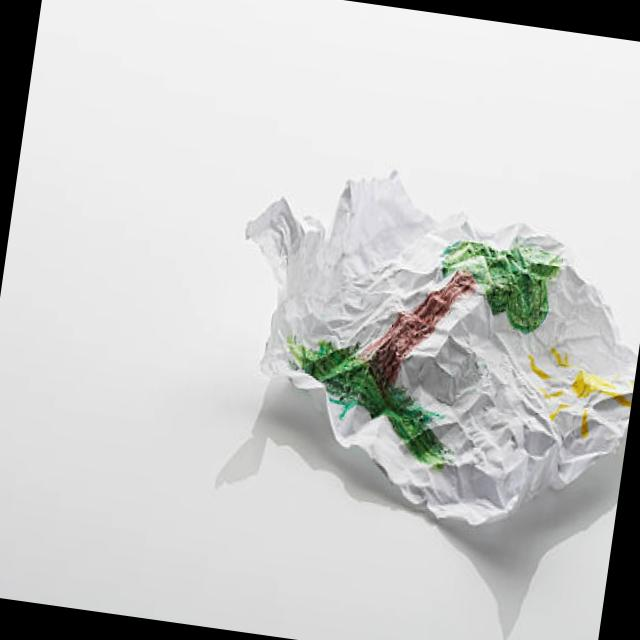electronic: (208, 147, 640, 546)
